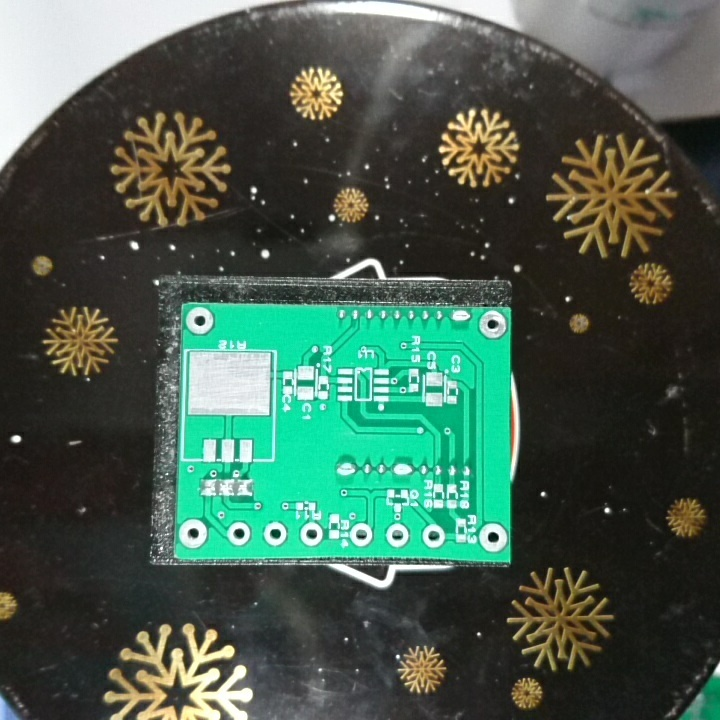F: (476, 520, 508, 554), (176, 518, 210, 549), (184, 305, 215, 336), (477, 309, 508, 340), (297, 518, 324, 549), (383, 520, 411, 549), (225, 520, 252, 550), (347, 520, 374, 549), (262, 520, 289, 549), (420, 521, 447, 549)
P: (331, 458, 359, 478), (388, 459, 416, 479), (448, 308, 471, 326)
